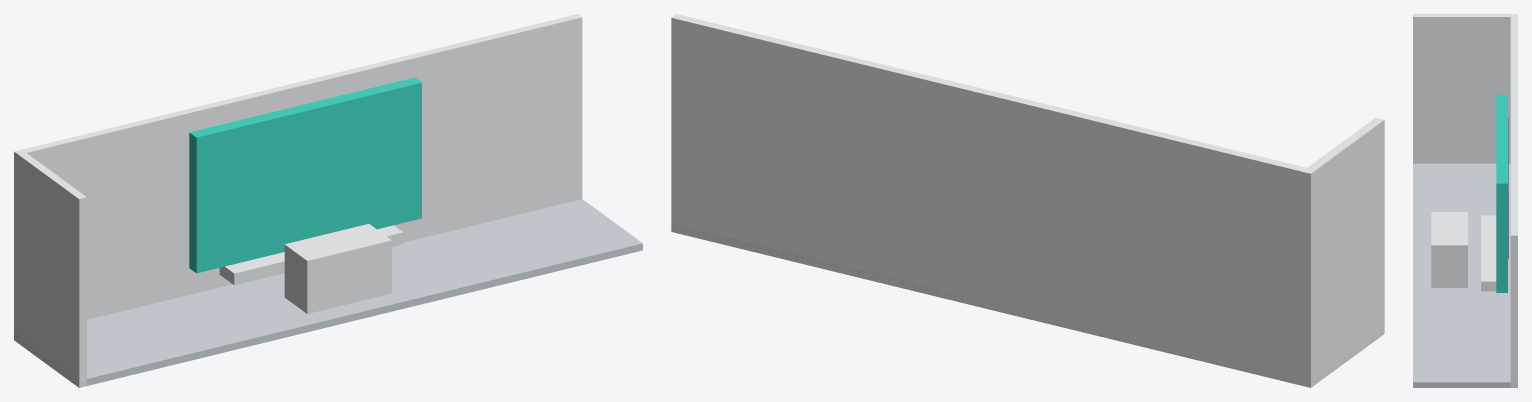
The picture shows the model from 3 angles, left to right: view 1: azimuth 30°, elevation 25°; view 2: azimuth 150°, elevation 25°; view 3: azimuth 270°, elevation 25°; orthographic projection. The views are drawn at different scales.
Parts seen in each view (by area): view 1: Exhibition Booth Concept; view 2: Exhibition Booth Concept; view 3: Exhibition Booth Concept.
Boxes of the visible parts, x1,y1,x2,y2 form: Exhibition Booth Concept: [14, 14, 642, 387]; Exhibition Booth Concept: [671, 14, 1384, 387]; Exhibition Booth Concept: [1413, 14, 1517, 387].
Bounding box in the file's own units: 10 × 3.2 × 2.
